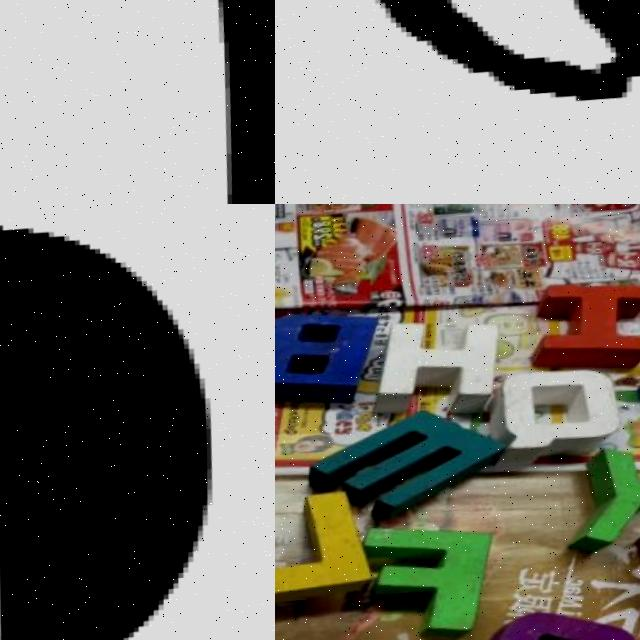B: (275, 298, 382, 412)
D: (304, 0, 640, 136)
F: (358, 518, 502, 630)
G: (0, 204, 258, 640), (0, 0, 275, 204), (442, 602, 640, 640)
H: (368, 318, 509, 412)
I: (530, 273, 640, 366)
L: (275, 482, 377, 608)
M: (295, 397, 497, 516)
Q: (487, 361, 625, 469)
Y: (563, 438, 640, 552)
